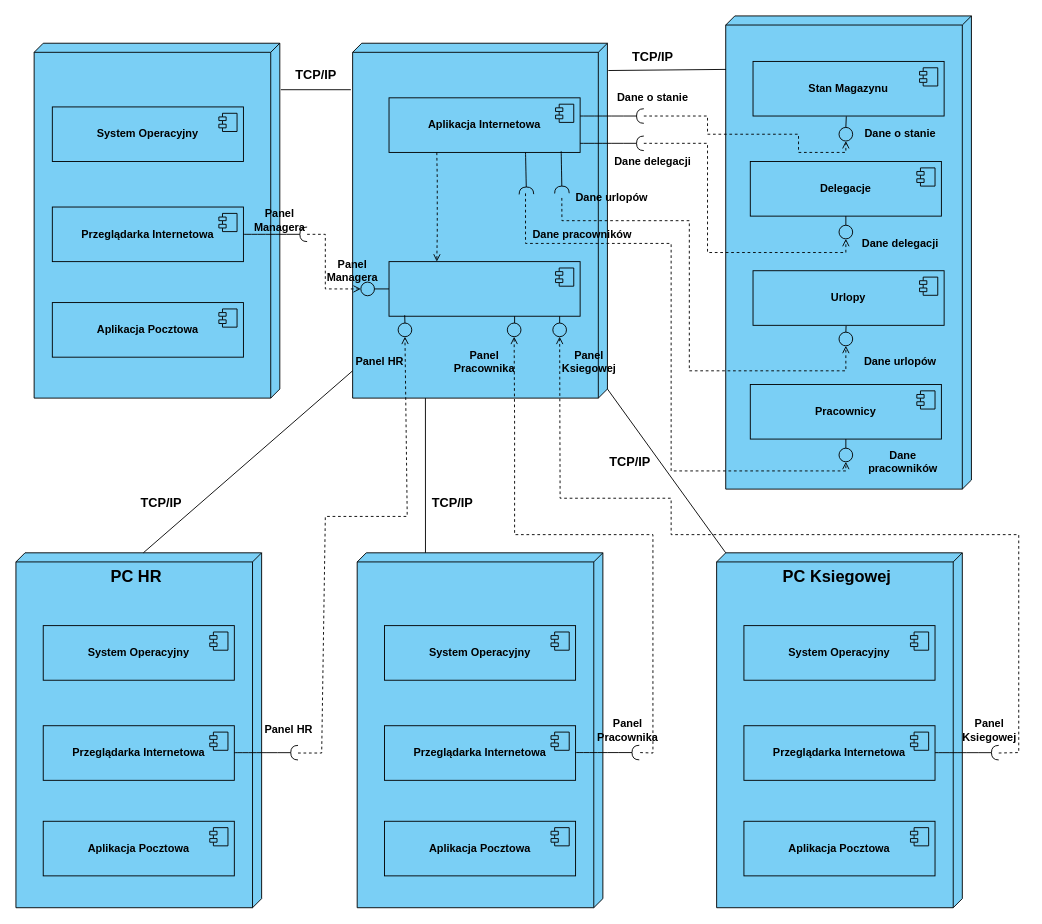
Some shapes in this 1042 by 924 pixel diagram are drawn without their labels. Each missing label, with the box of its shape:
PC Managera: (33, 42, 280, 398)
PC Pracownika: (356, 552, 603, 908)
Serwer Aplikacji: (352, 42, 607, 398)
Serwer Bazodanowy: (725, 15, 971, 489)
Serwer WWW: (388, 261, 580, 316)
